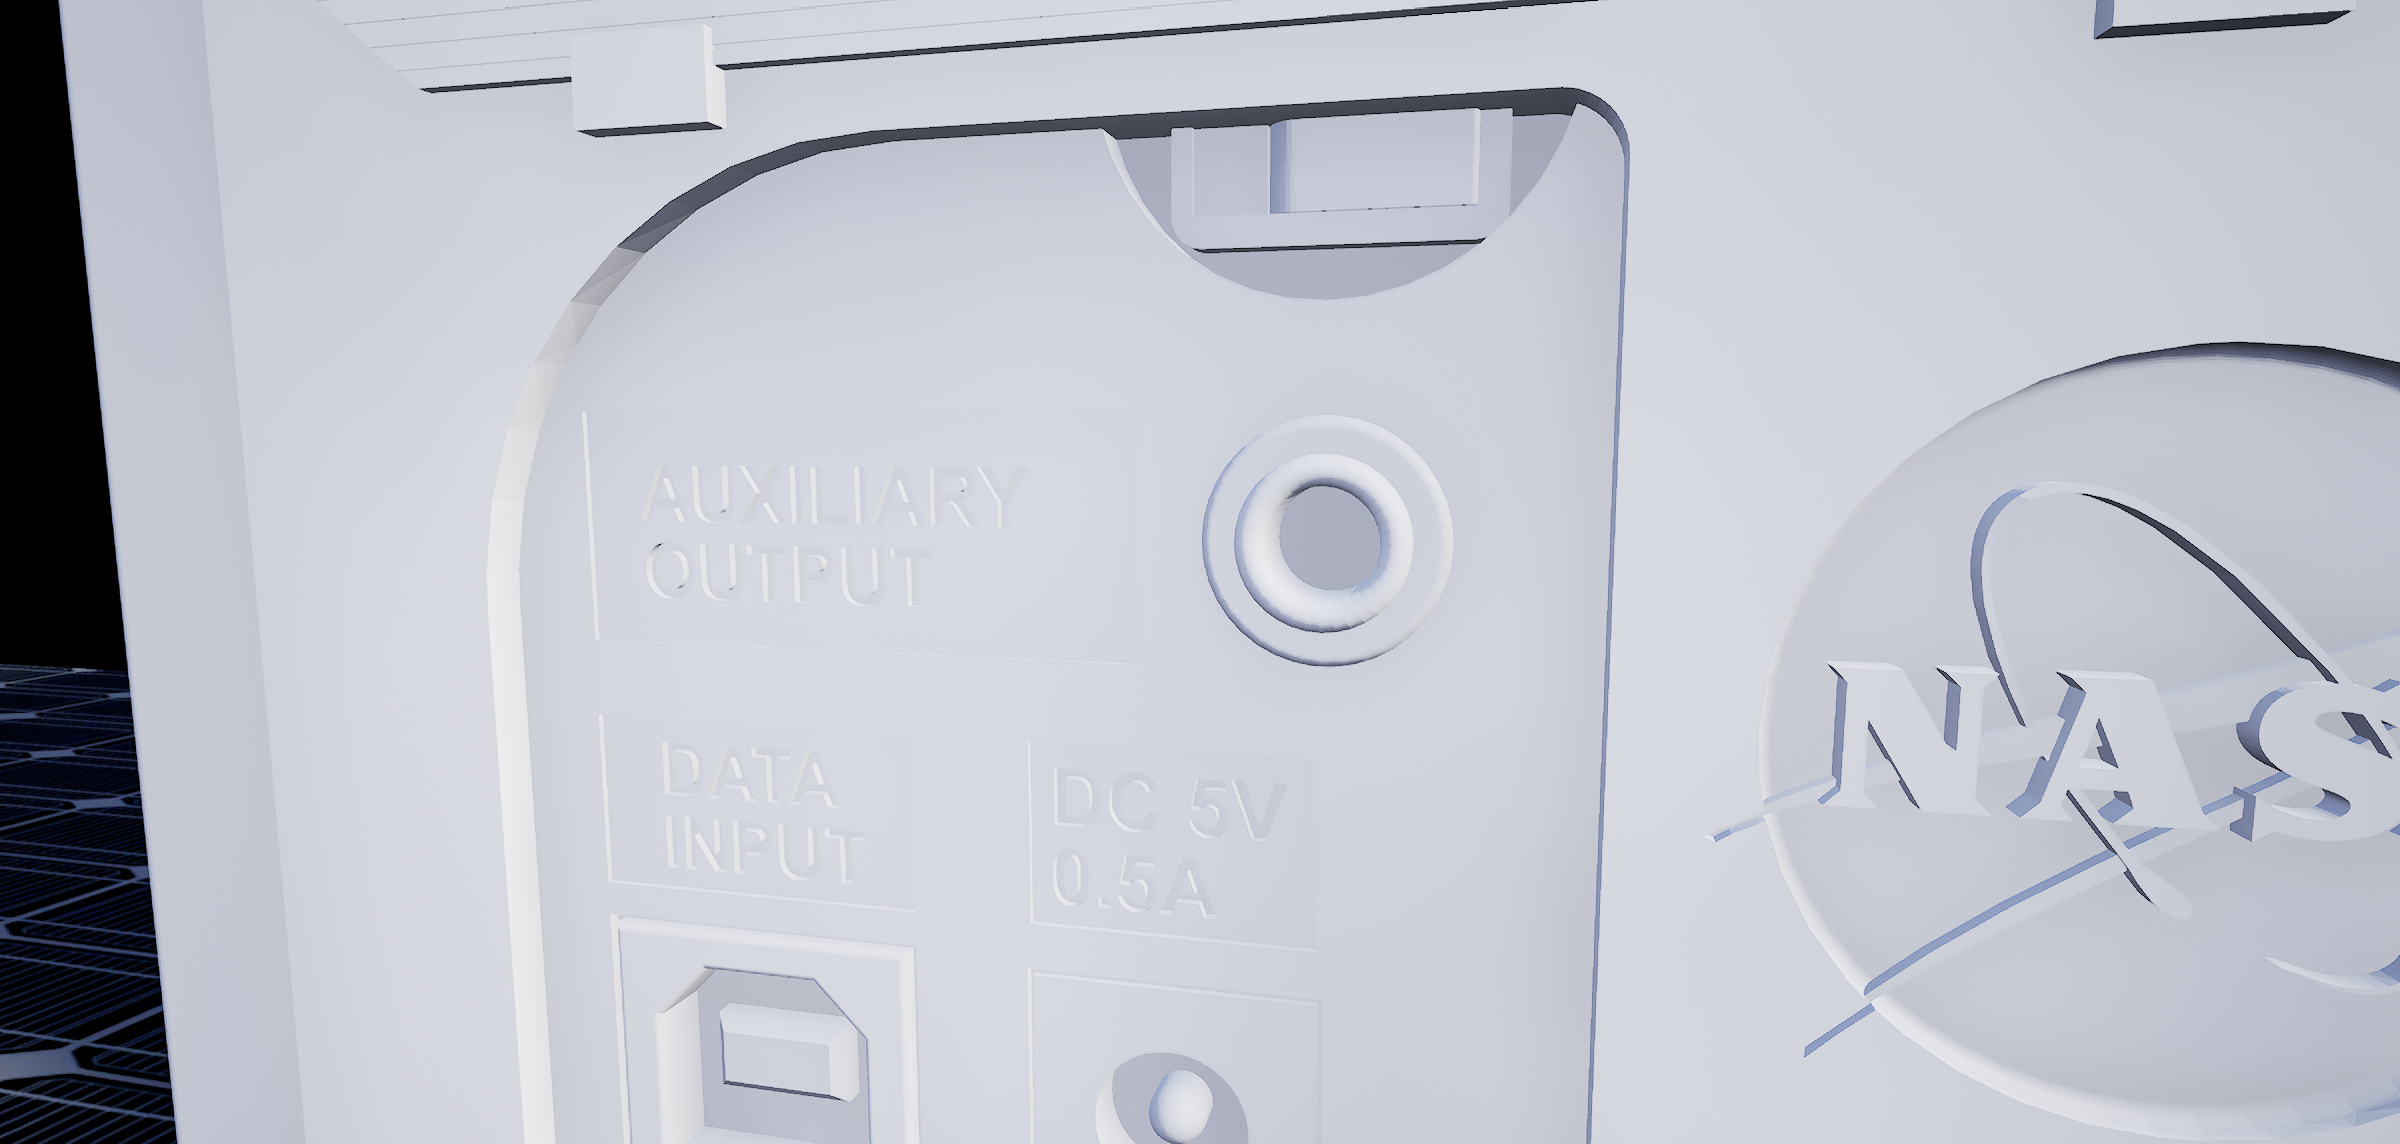aux: (1197, 397, 1459, 700)
dc: (1093, 1041, 1260, 1144)
usb: (654, 962, 880, 1144)
